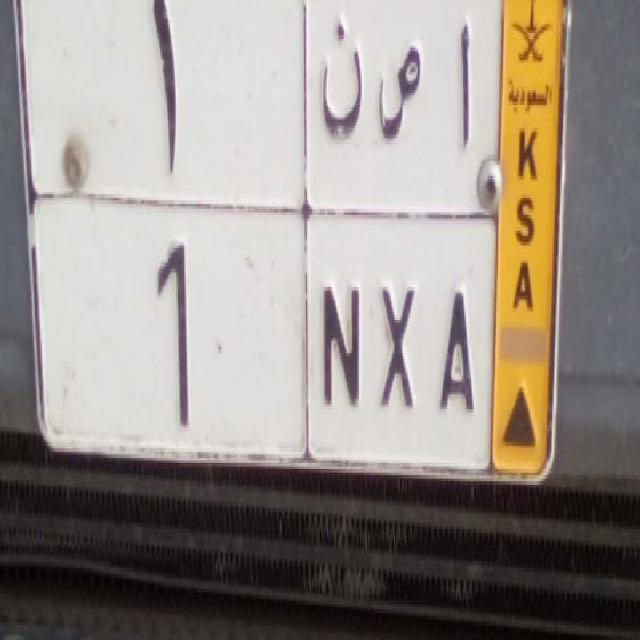license_plate: (33, 186, 494, 478)
